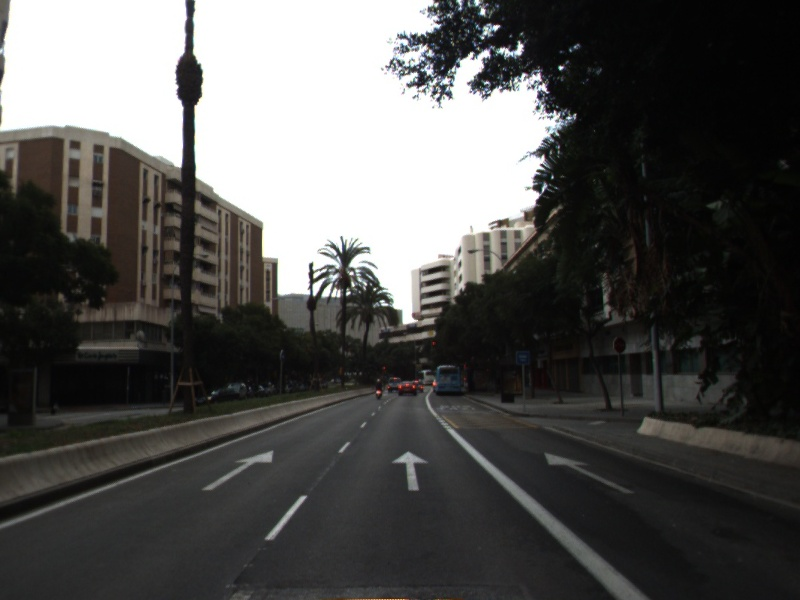STRAIGHT: (543, 451, 637, 496), (199, 448, 275, 493), (390, 449, 430, 493)
